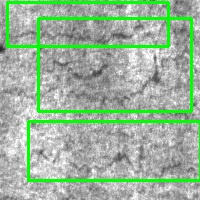crazing: (38, 18, 191, 111), (28, 121, 200, 180), (7, 2, 168, 46)
